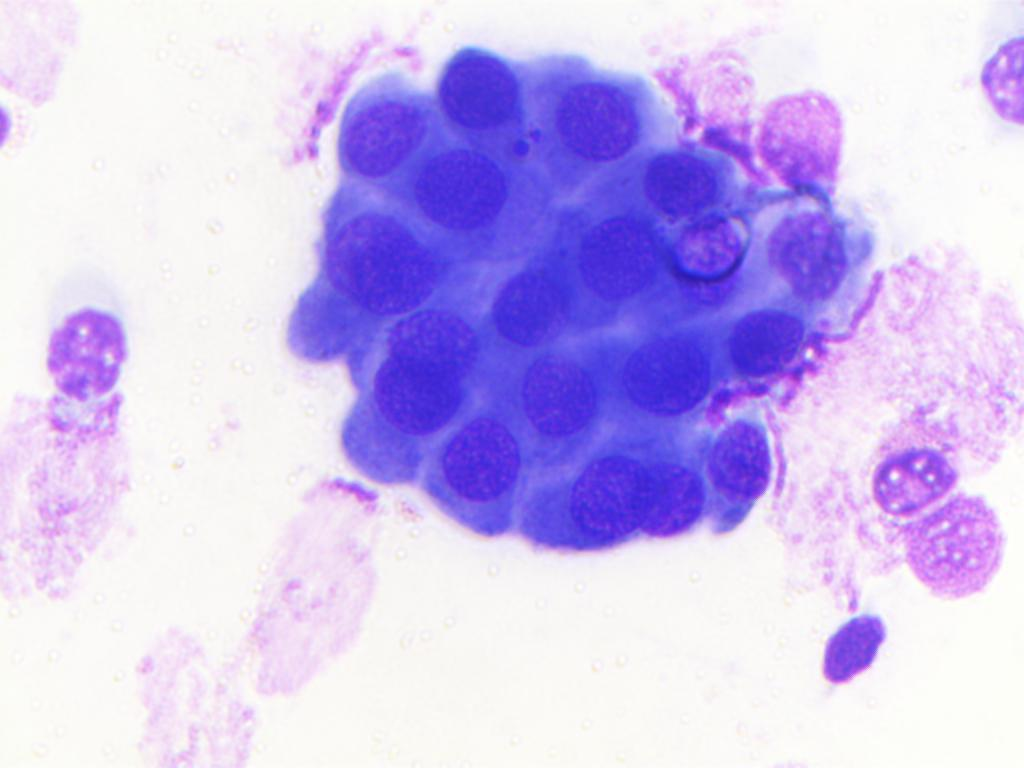epithelial: (308, 203, 445, 320), (331, 67, 431, 188), (763, 196, 863, 313), (406, 138, 524, 236), (354, 345, 473, 438), (545, 66, 648, 165), (909, 495, 1003, 603), (39, 302, 148, 395), (614, 328, 717, 421), (510, 346, 607, 443), (570, 447, 654, 559), (379, 291, 487, 378), (758, 88, 850, 190), (959, 22, 1024, 166), (701, 408, 790, 510), (579, 209, 662, 306), (434, 416, 524, 505), (431, 44, 529, 124), (804, 606, 889, 697), (628, 141, 728, 215), (624, 456, 709, 543), (490, 268, 576, 352), (720, 296, 807, 379), (339, 398, 421, 481), (664, 204, 755, 278), (863, 443, 958, 511), (281, 278, 357, 362)
